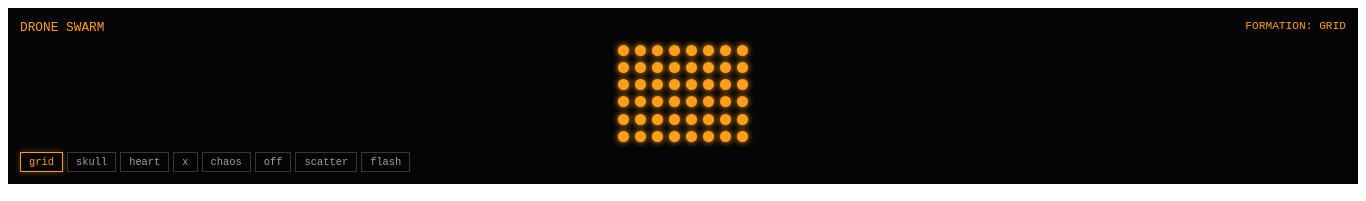
Test: DroneSwarm Component › should switch to OFF formation on button click
Click the button "off" at (273, 162), box top-left (255, 152), bottom-right (292, 172)
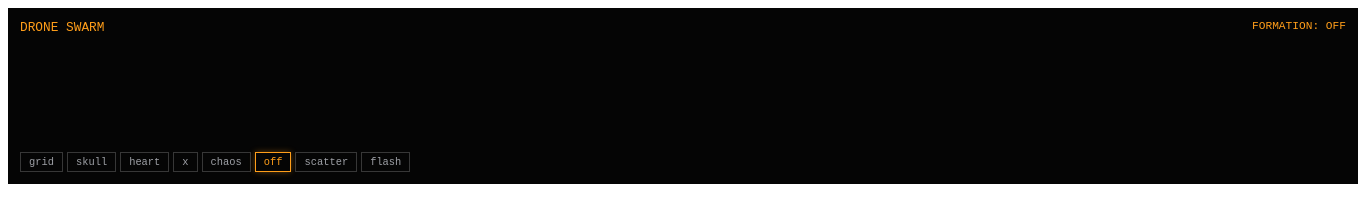
Result: the text "FORMATION: OFF" is shown at top-left (1252, 20), bottom-right (1346, 35)
